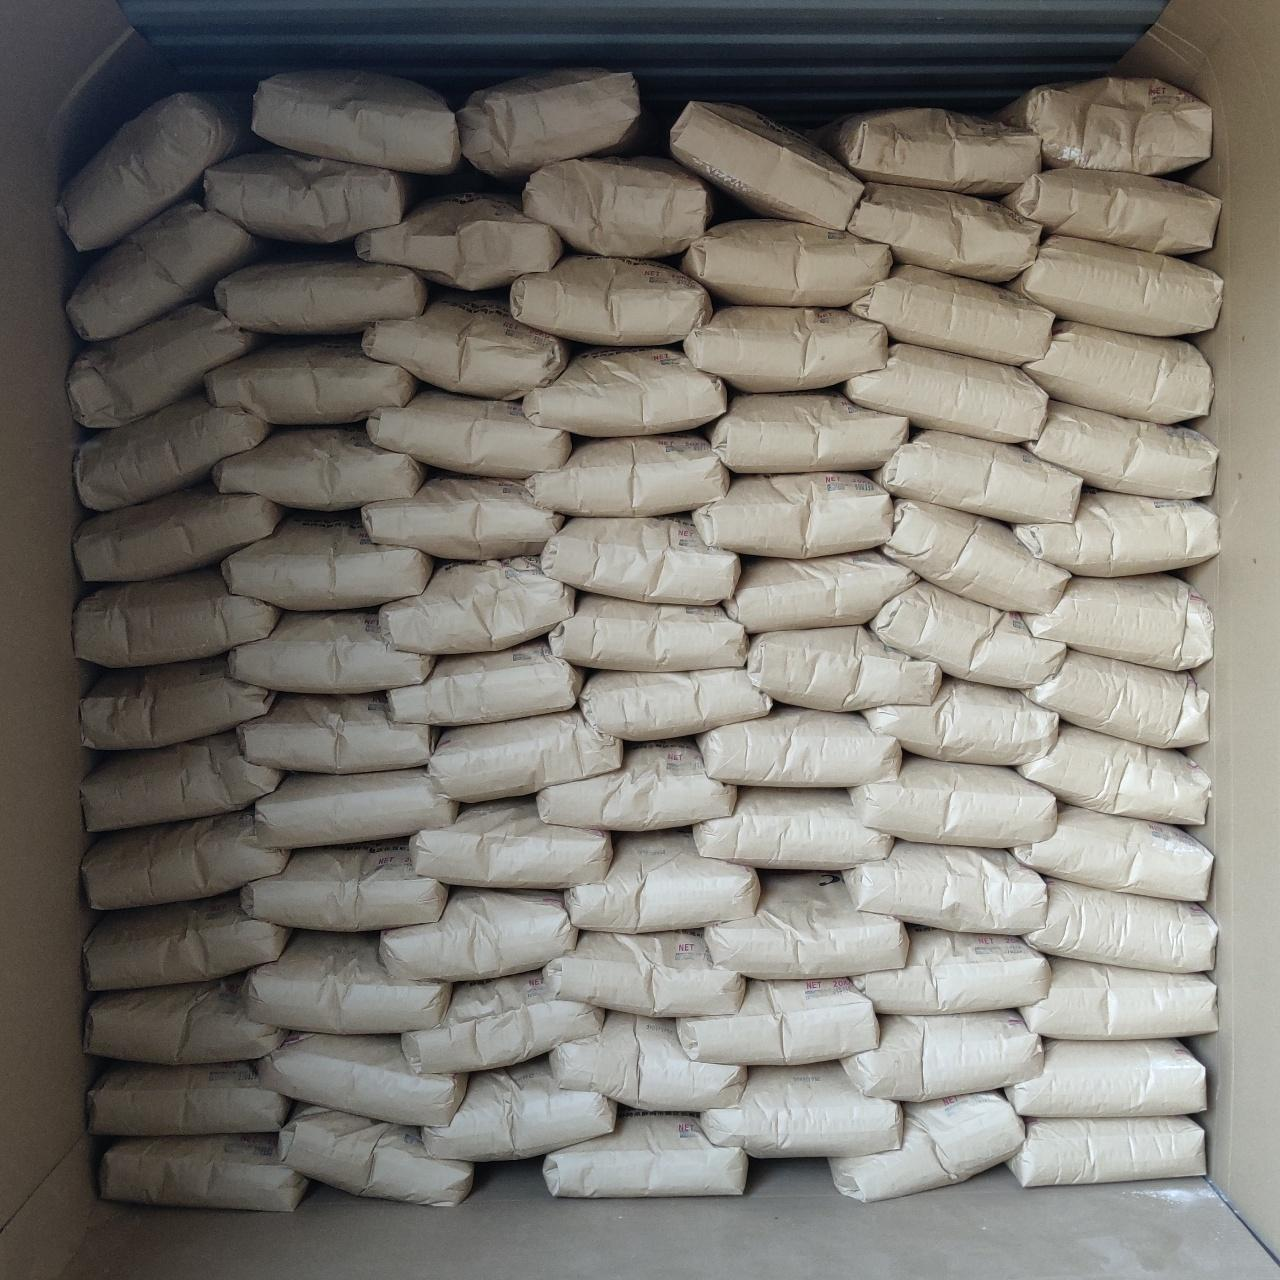sack: (58, 92, 260, 248), (68, 202, 266, 338), (670, 102, 862, 228), (68, 304, 262, 426), (74, 394, 270, 508), (362, 292, 568, 396), (254, 70, 460, 172), (1008, 236, 1222, 334), (882, 500, 1068, 612), (996, 78, 1210, 174), (242, 932, 450, 1030), (458, 70, 646, 178), (204, 148, 424, 240), (850, 264, 1052, 364), (82, 810, 288, 908), (76, 484, 286, 580), (870, 582, 1062, 686), (706, 874, 904, 974), (82, 732, 282, 830), (834, 1094, 1022, 1198), (404, 972, 602, 1070), (76, 568, 278, 664), (224, 512, 430, 606), (814, 110, 1038, 196), (566, 830, 758, 930), (84, 894, 288, 988), (424, 1058, 614, 1158), (844, 344, 1046, 438), (1024, 320, 1210, 422), (356, 194, 562, 286), (550, 1012, 742, 1110), (842, 842, 1046, 934), (258, 1034, 466, 1124), (380, 558, 574, 654), (280, 1106, 470, 1204), (1018, 724, 1208, 822), (1012, 806, 1210, 900), (1002, 168, 1218, 254), (850, 756, 1054, 846), (702, 1064, 900, 1156), (524, 158, 712, 254), (522, 348, 726, 436), (242, 842, 446, 930), (874, 430, 1078, 518), (848, 184, 1038, 278), (368, 388, 570, 476), (510, 254, 710, 342), (410, 798, 610, 886), (1024, 576, 1210, 670), (1024, 650, 1206, 746), (540, 740, 734, 830), (380, 890, 574, 980), (82, 656, 270, 748), (1026, 402, 1214, 494), (842, 1012, 1038, 1100), (680, 220, 890, 302), (428, 710, 622, 798), (214, 426, 422, 508), (542, 516, 740, 602), (86, 976, 284, 1062), (684, 306, 886, 390), (544, 1112, 746, 1196), (1026, 880, 1214, 970), (208, 340, 414, 422), (362, 474, 562, 558), (216, 254, 426, 334), (1016, 490, 1216, 574), (230, 610, 432, 692), (854, 928, 1046, 1014), (526, 434, 726, 516), (542, 932, 742, 1014), (866, 678, 1056, 764), (388, 640, 582, 724), (694, 474, 892, 556), (680, 980, 878, 1062), (698, 706, 900, 786), (748, 626, 940, 710), (708, 390, 906, 470), (1020, 958, 1216, 1038), (694, 788, 890, 868), (724, 550, 918, 630), (252, 770, 456, 846), (238, 694, 436, 772), (100, 1136, 308, 1210), (1006, 1040, 1204, 1116), (550, 594, 746, 670), (90, 1062, 288, 1134), (1008, 1118, 1204, 1186), (580, 670, 770, 738)
